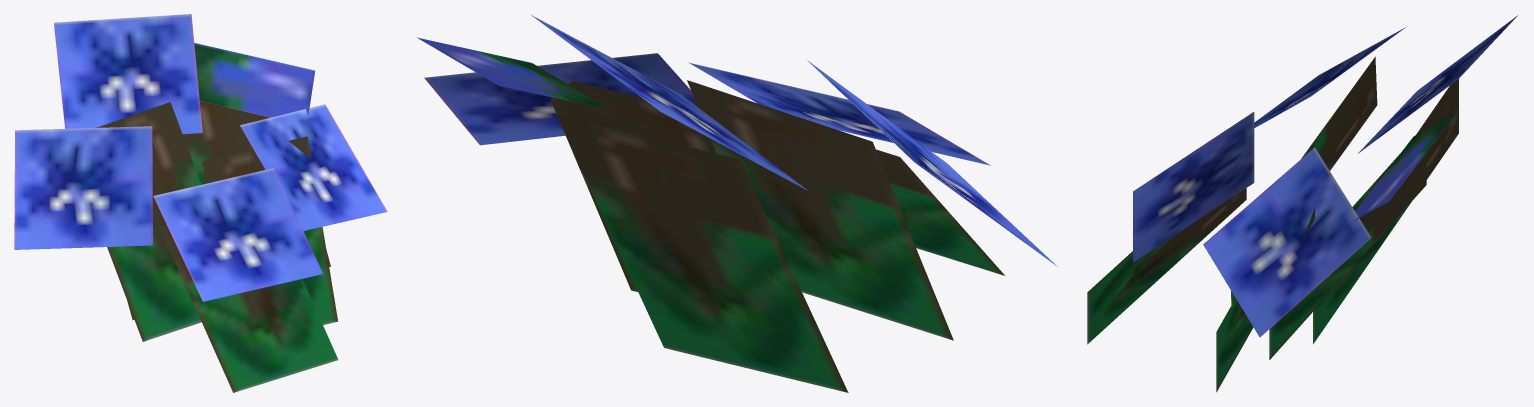
File: flw_violet_bl.dae
3 views of the same model, side by side, from view 1: azimuth 30°, elevation 25°; view 2: azimuth 150°, elevation 25°; view 3: azimuth 270°, elevation 25° (orthographic). The views are drawn at different scales.
Visible parts, largest first — view 1: flw_violet_bl; view 2: flw_violet_bl; view 3: flw_violet_bl.
Boxes of the visible parts, x1,y1,x2,y2 form: flw_violet_bl: [14, 14, 387, 392]; flw_violet_bl: [417, 14, 1057, 392]; flw_violet_bl: [1087, 15, 1517, 392].
Bounding box in the file's own units: 29.91 × 19.78 × 26.85.
Materials: 1 (1 with a texture image).
